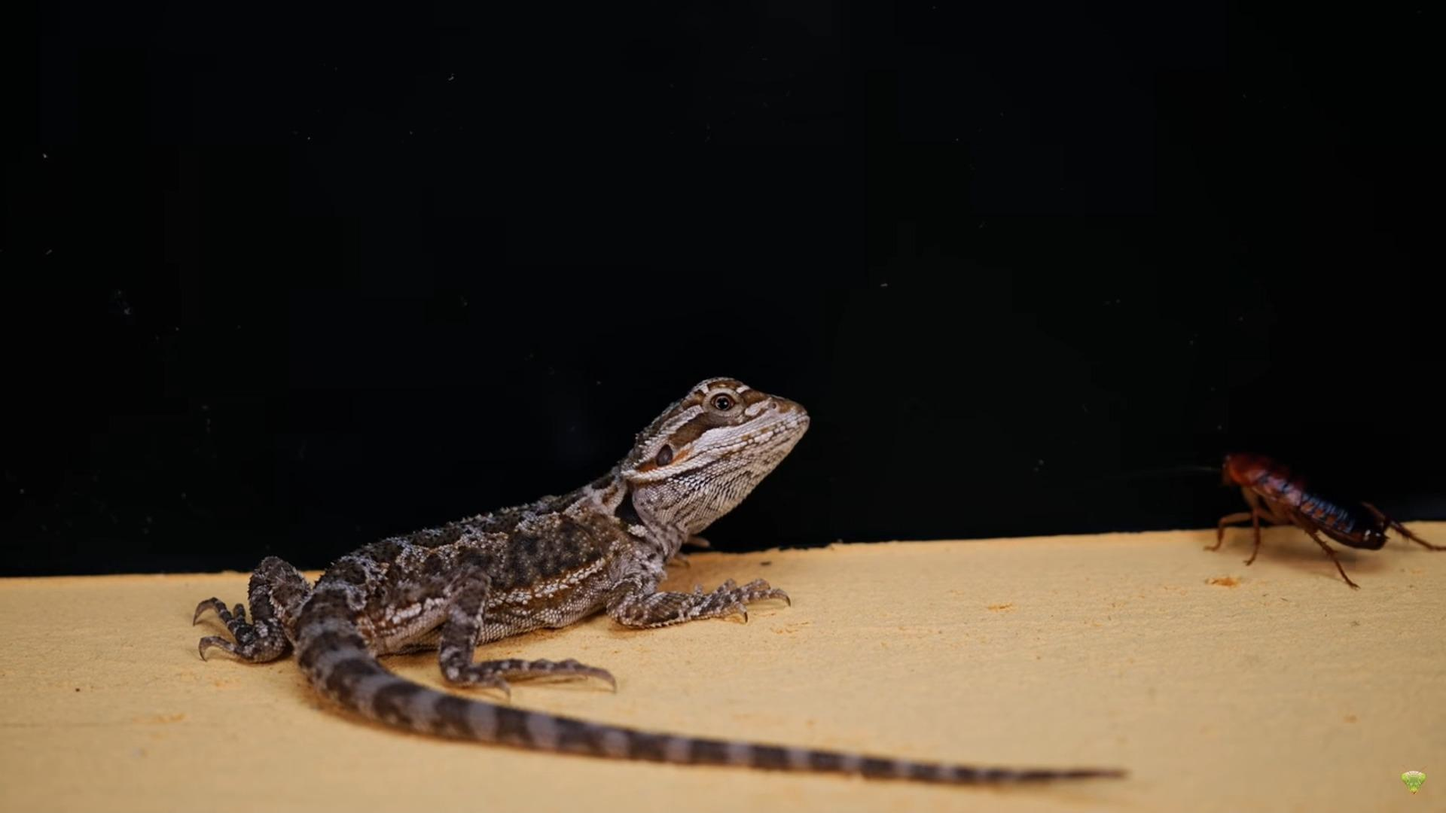cockroach: (1175, 435, 1434, 587)
lizard: (183, 373, 853, 769)
